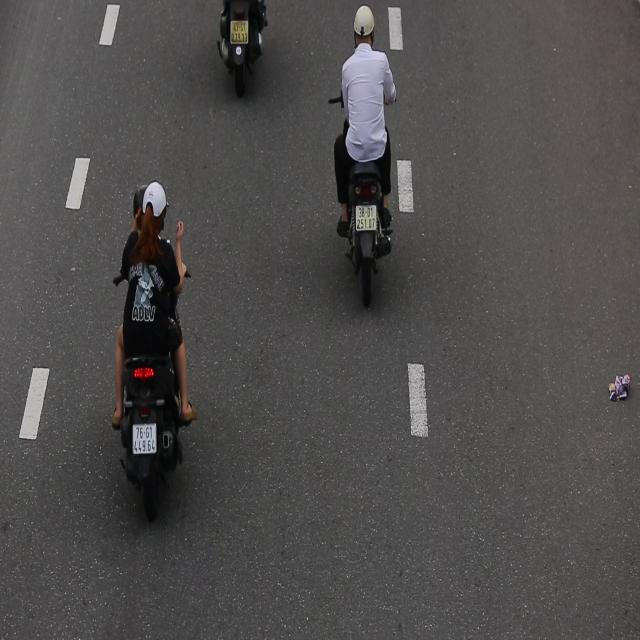motorbike: (109, 172, 204, 509), (320, 0, 410, 315)
